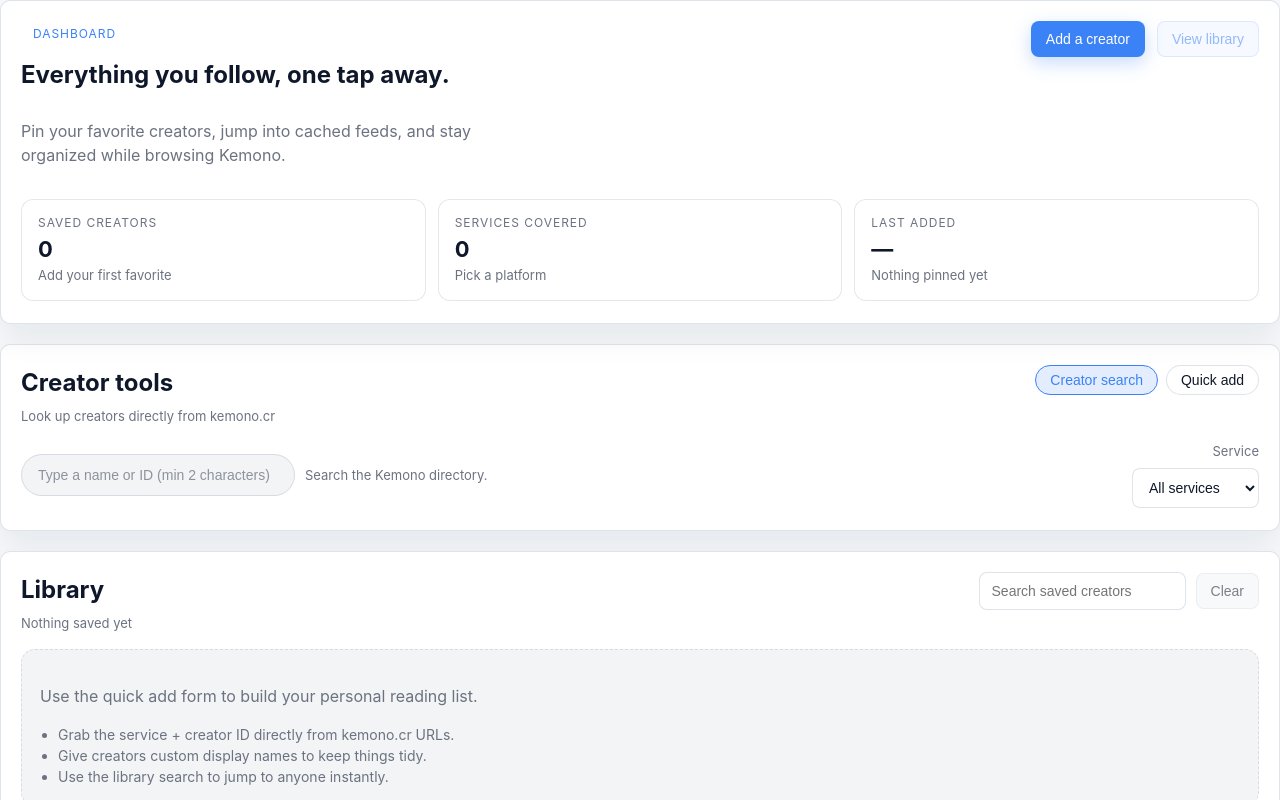
Test: Home edge-case coverage › shows capped result counts when creator matches exceed the limit
In the field named "Search creators": {"x": 156, "y": 475} [26, 459, 286, 491], type "zz"
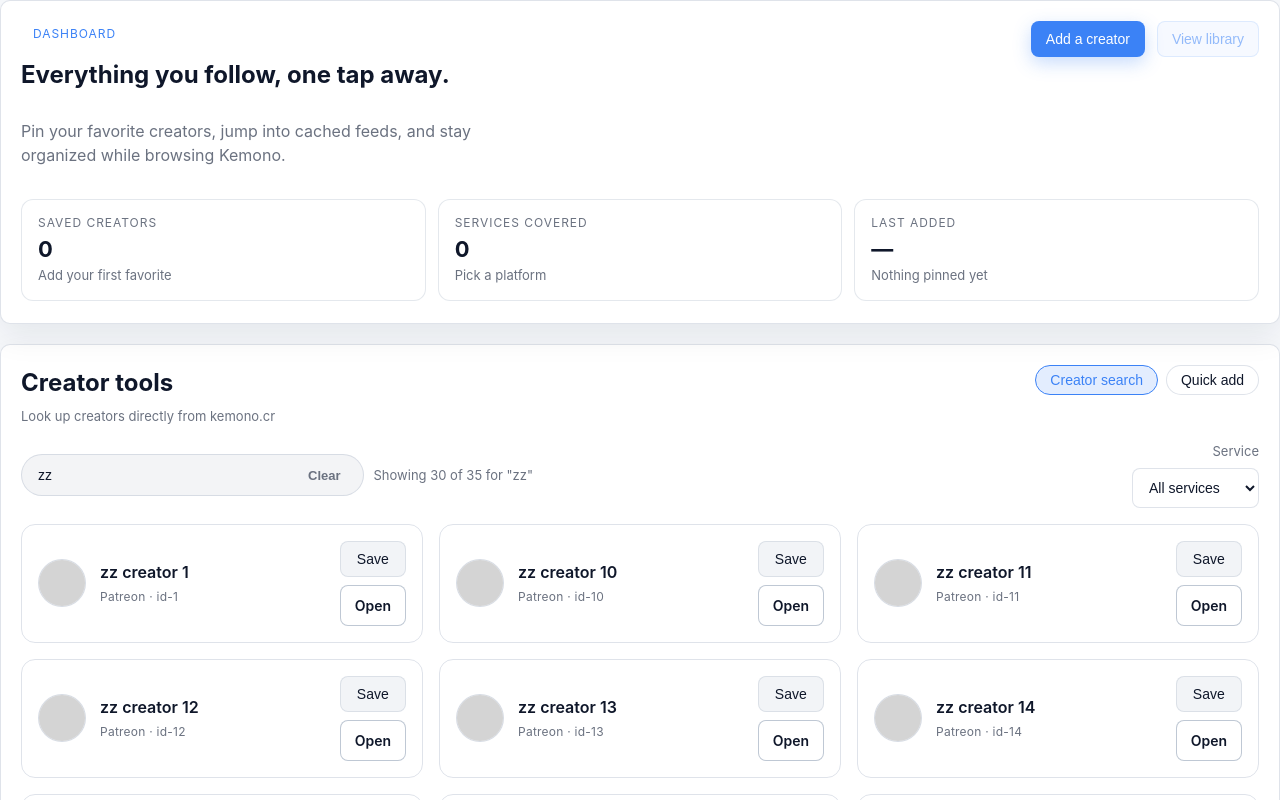
Now the text "Showing 30 of 35 for \"zz\"" is shown, box [374, 466, 534, 484]
Now the number of list items with class "creator-search-item" is 30
